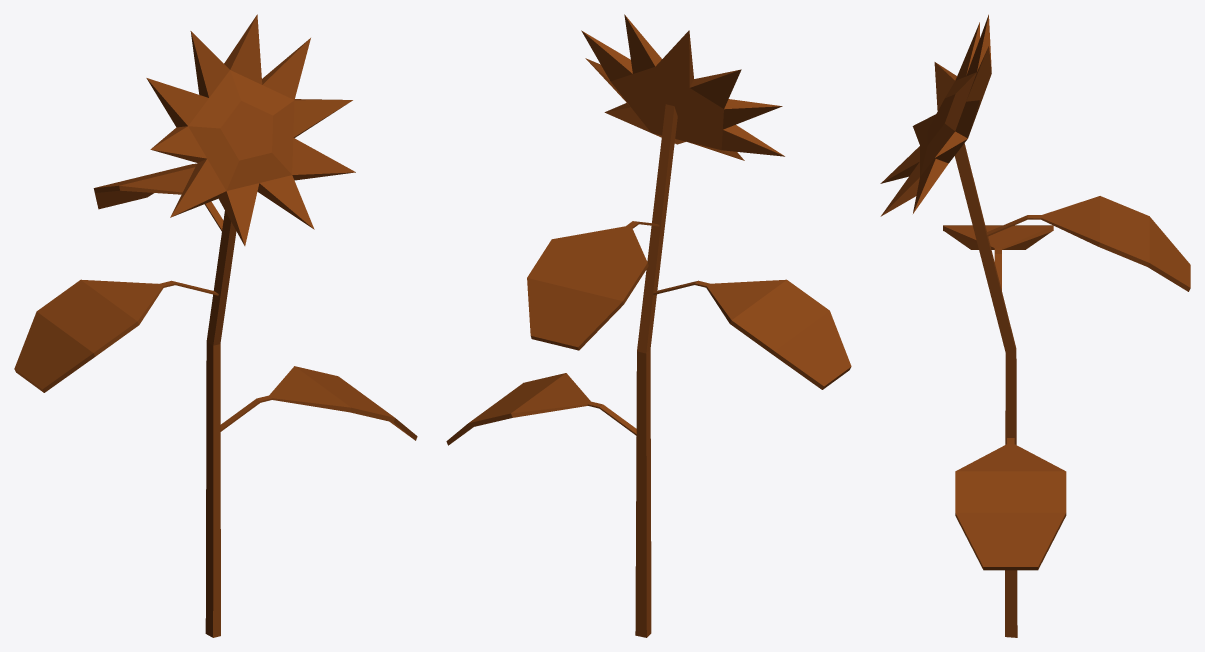
The model's file is Flower_5_Snow.glb.
3 renders of one model, left to right at view 1: azimuth 30°, elevation 25°; view 2: azimuth 150°, elevation 25°; view 3: azimuth 270°, elevation 25°, orthographic. The views are drawn at different scales.
Parts seen in each view (by area): view 1: Flower_5_Snow.001; view 2: Flower_5_Snow.001; view 3: Flower_5_Snow.001.
Boxes of the visible parts, x1,y1,x2,y2 form: Flower_5_Snow.001: (14,14,417,637); Flower_5_Snow.001: (446,14,851,637); Flower_5_Snow.001: (880,14,1190,637).
Bounding box in the file's own units: 1.25 × 1.94 × 0.9034.
